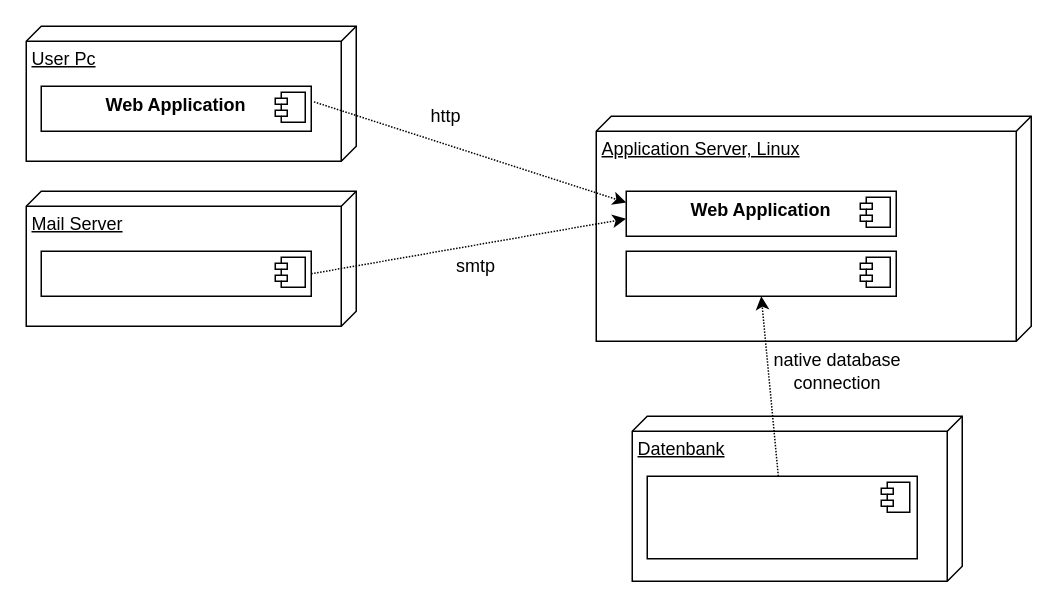
The diagram is 1058 pixels wide and 608 high, and some of its shapes have lost their labels. The centre of each missing label's shape, as x and y in pixels:
DB API: JDBC: (x=760, y=273)
reporting data : reporting data: (x=781, y=517)
send mail : send mail: (x=175, y=273)
